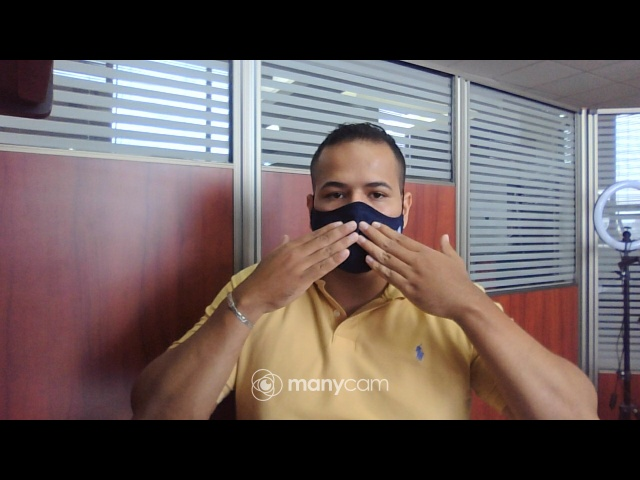Thanks: (244, 217, 492, 317)
